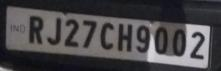0: (172, 27, 188, 58), (155, 26, 171, 54)
2: (189, 30, 206, 60)
7: (82, 18, 98, 49)
9: (135, 21, 152, 55)
C: (100, 20, 116, 51)
H: (118, 20, 135, 54)
J: (47, 14, 64, 47)
R: (25, 13, 45, 45), (65, 18, 81, 49)
